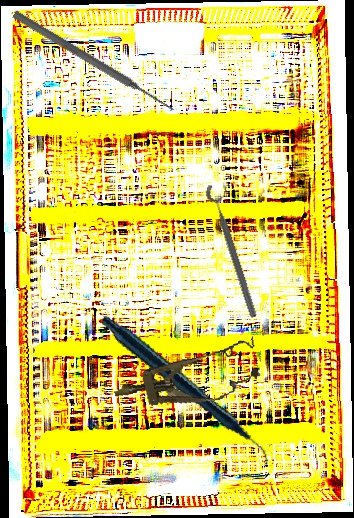Fixation Ring: (203, 179, 269, 320)
Handpiece: (100, 286, 270, 497)
Pusher: (11, 8, 177, 116)
Speculum: (108, 336, 265, 421)
